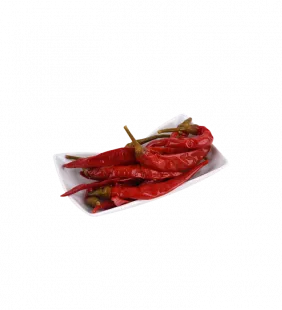SDS: (44, 108, 237, 227)
